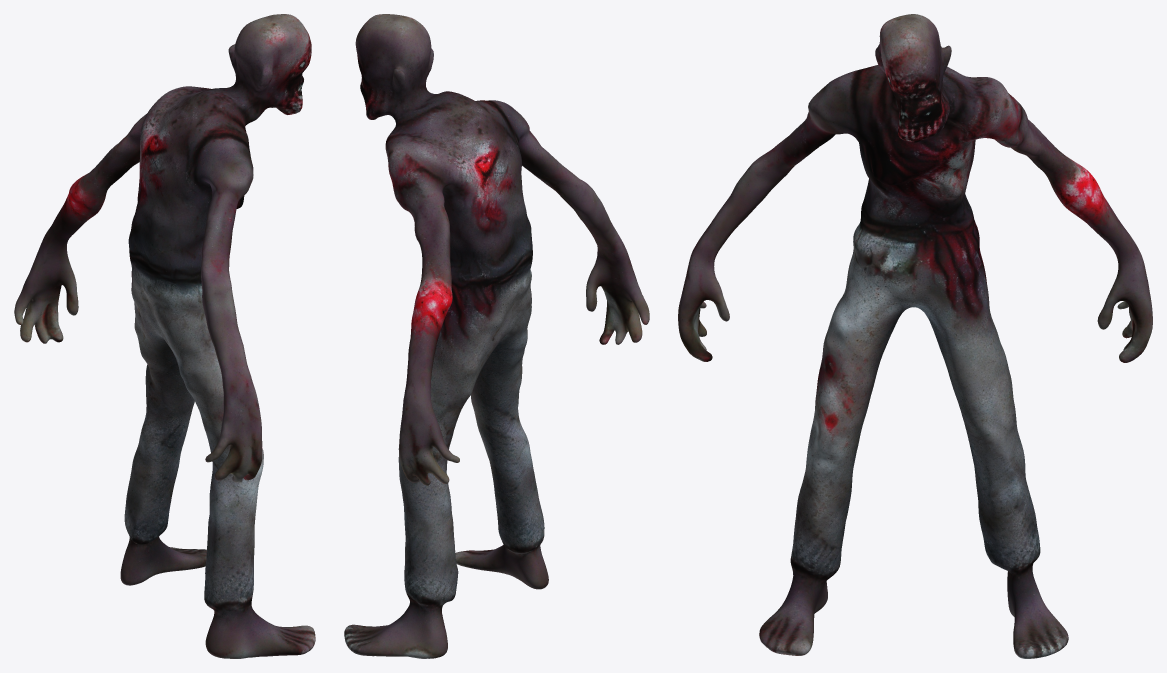
The model's file is zombie.glb.
3 views of the same model, side by side, from view 1: azimuth 30°, elevation 25°; view 2: azimuth 150°, elevation 25°; view 3: azimuth 270°, elevation 25° (orthographic). The views are drawn at different scales.
Visible parts, largest first — view 1: model_0; view 2: model_0; view 3: model_0.
Part boxes in pixels (box(x1,y1,x2,y2)): model_0: box(14, 14, 315, 658); model_0: box(344, 14, 649, 658); model_0: box(678, 14, 1152, 658).
Bounding box in the file's own units: 0.6076 × 1.72 × 1.14.
1 material, 1 textured.
